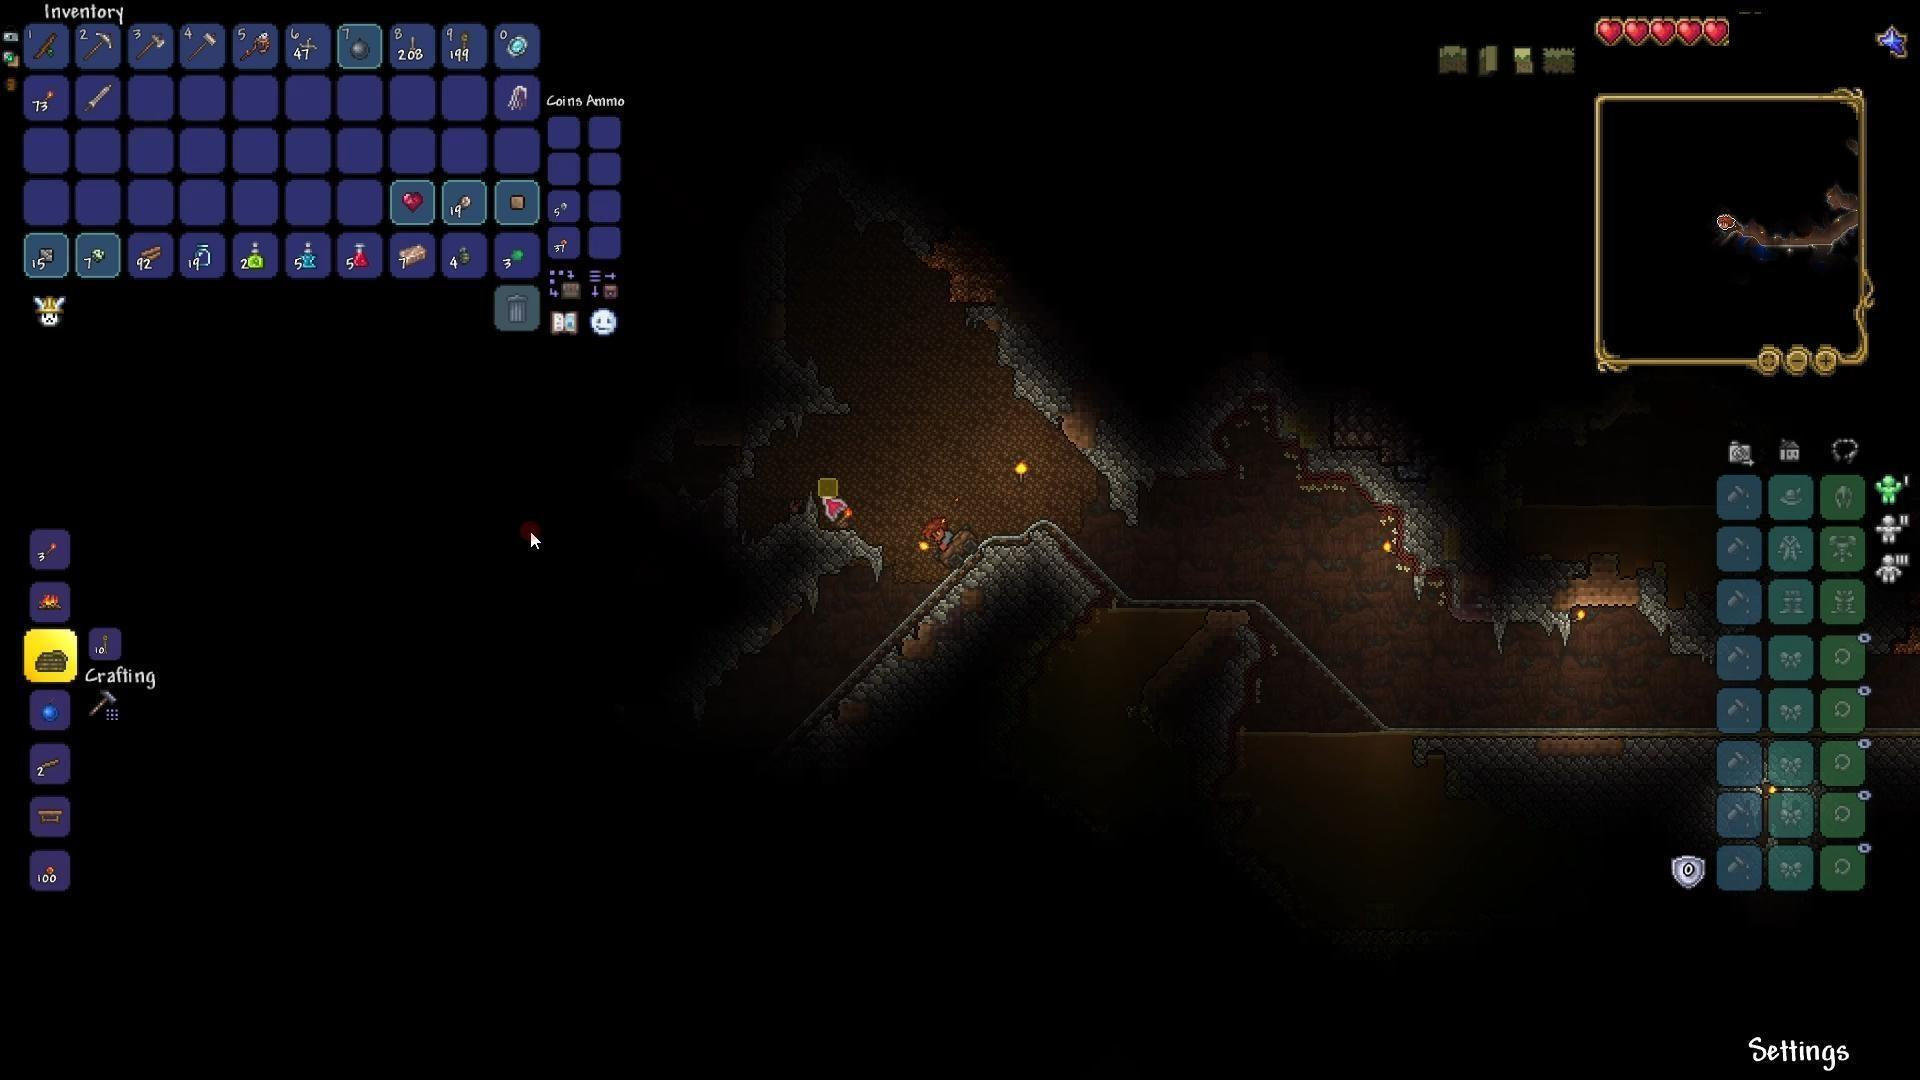heart: (1702, 17, 1733, 51), (1593, 16, 1626, 46), (1676, 15, 1704, 50), (1650, 16, 1676, 49), (1625, 15, 1651, 44)
liquid: (1246, 717, 1378, 756)
stone: (971, 537, 1102, 641), (1091, 435, 1193, 522), (1364, 467, 1444, 576), (767, 516, 890, 585), (1636, 576, 1701, 671), (1001, 334, 1063, 426), (840, 650, 899, 740), (1440, 732, 1535, 770), (1627, 733, 1700, 775)
